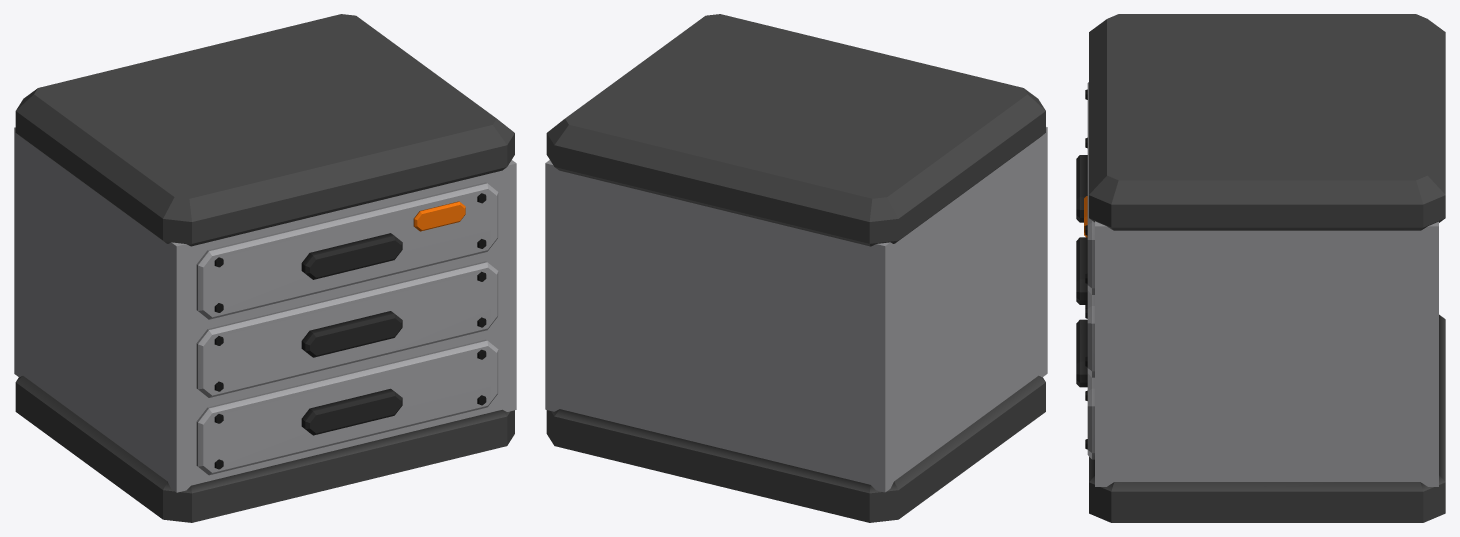
Rendered from drawer-cabinet.glb.
3 views of the same model, side by side, from view 1: azimuth 30°, elevation 25°; view 2: azimuth 150°, elevation 25°; view 3: azimuth 270°, elevation 25° (orthographic). The views are drawn at different scales.
Parts seen in each view (by area): view 1: side-table; view 2: side-table; view 3: side-table.
Boxes of the visible parts, bbox=[...] form: side-table: bbox=[14, 14, 516, 522]; side-table: bbox=[545, 14, 1047, 522]; side-table: bbox=[1076, 14, 1445, 522].
Size of the model in its own units: 0.71 by 0.61 by 0.61.
1 material, 1 textured.
